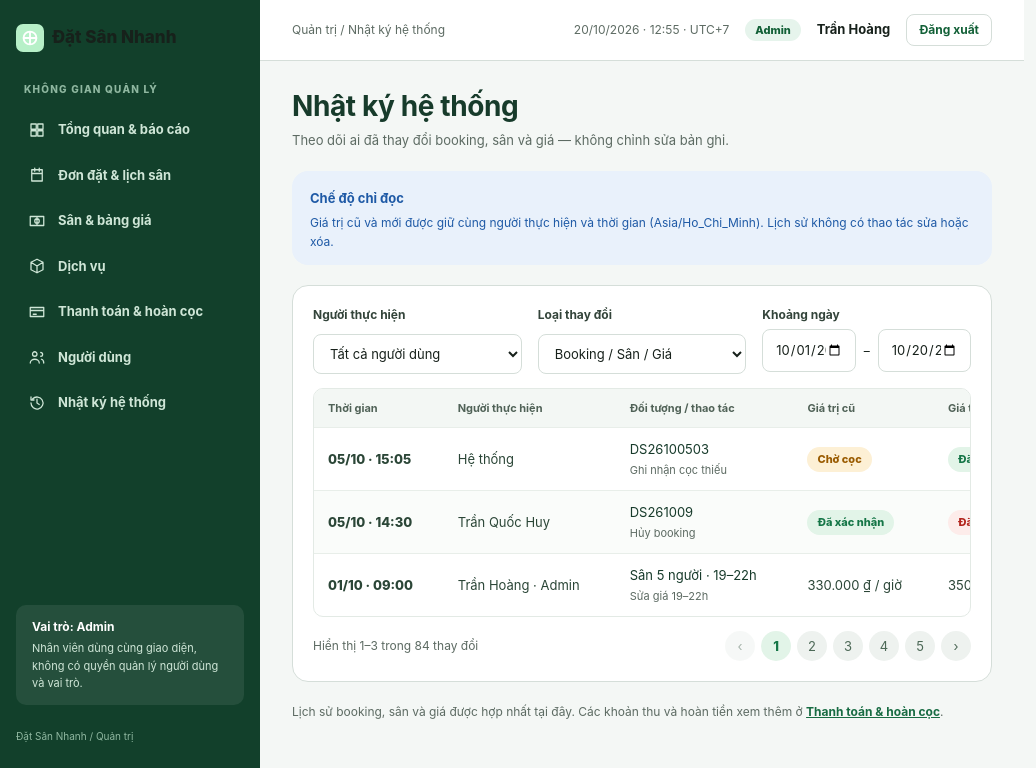
AdminSystemLogsPage › chọn khoảng ngày sai (từ > đến) thì báo lỗi và không gọi server
Expected: the table is shown, left=314, top=389, right=971, bottom=616
Type "2999-01-01" into the date field named "Từ ngày" at (809, 351), box left=762, top=329, right=856, bottom=372
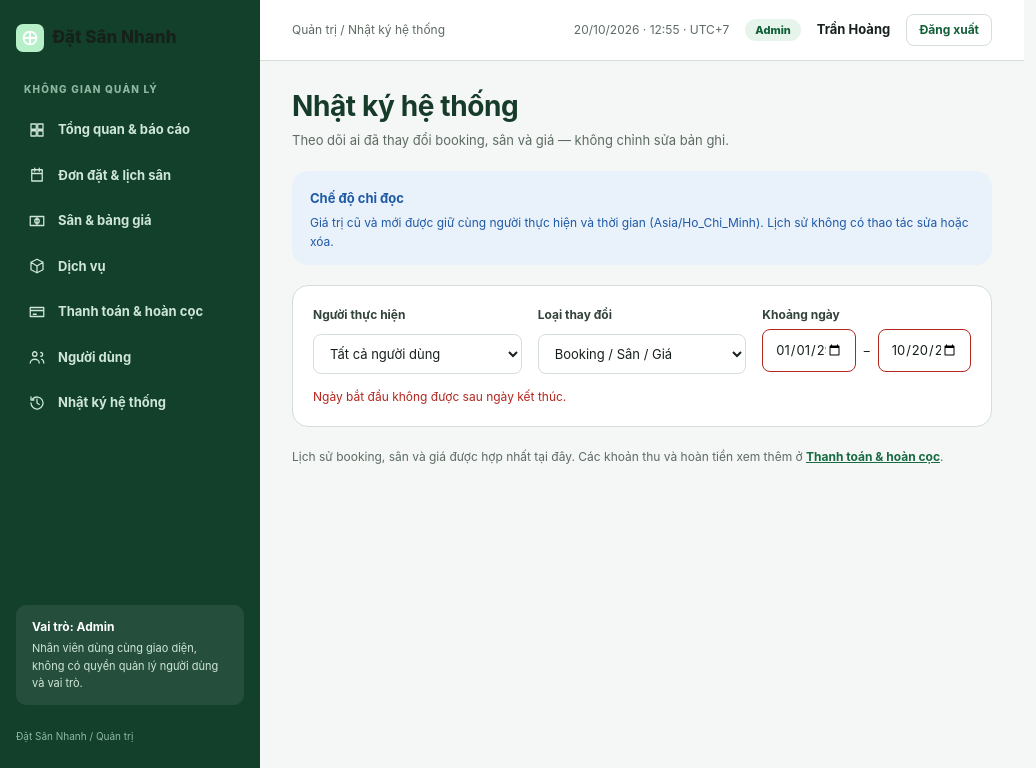
Now the text "Ngày bắt đầu không được sau ngày kết thúc." is shown, box left=313, top=389, right=566, bottom=404
Now the table is gone
